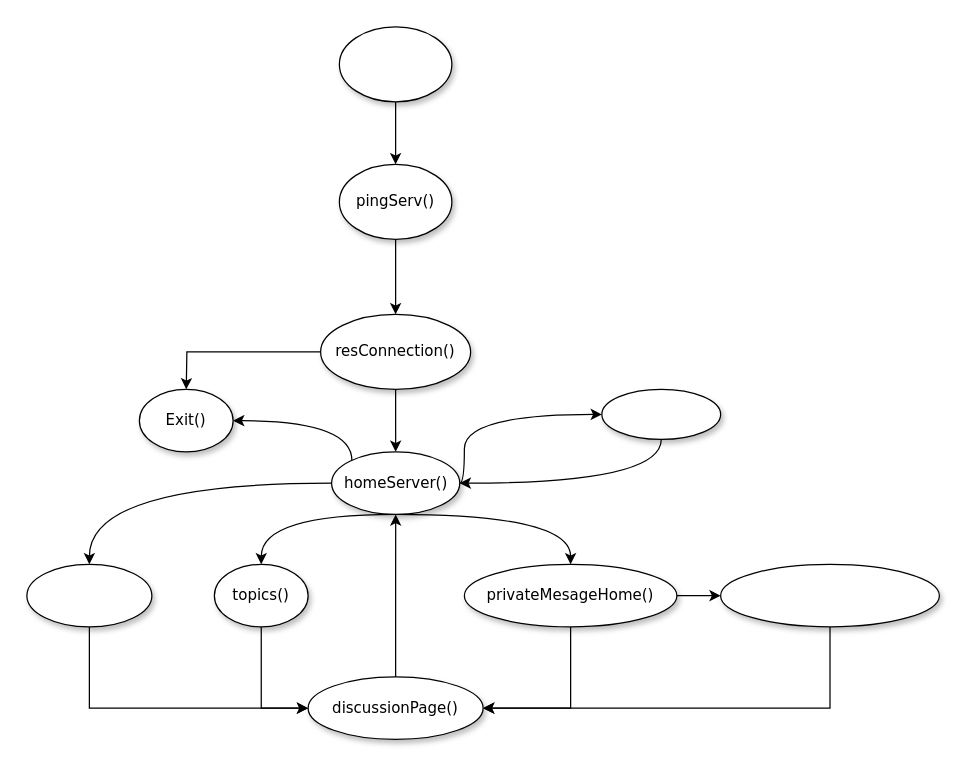
This 969x770 diagram has some shape labels left out. The centre of each missing label's shape, as x and y in pixels:
addFriend(): (x=662, y=415)
createPrivateMessage(): (x=830, y=597)
createTopic(): (x=90, y=597)
Main: (x=396, y=66)
